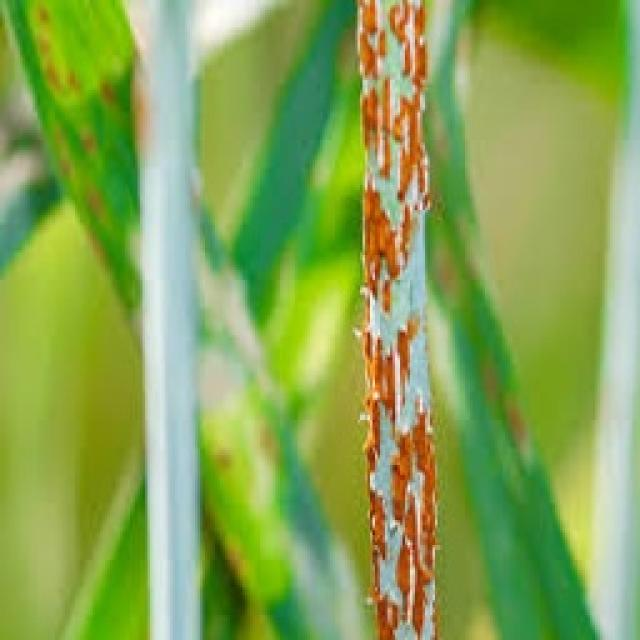Black Rust: (348, 0, 442, 638)
